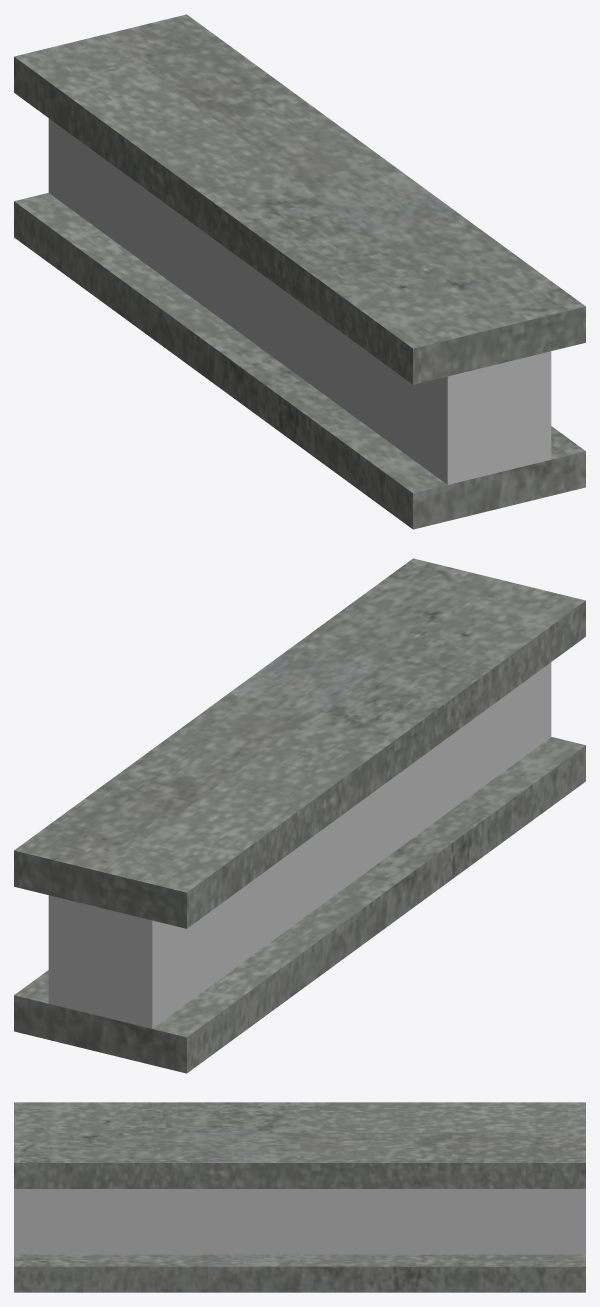
The model's file is detailBeam.fbx.
3 views of the same model, one above another, from view 1: azimuth 30°, elevation 25°; view 2: azimuth 150°, elevation 25°; view 3: azimuth 270°, elevation 25° (orthographic). The views are drawn at different scales.
Parts seen in each view (by area): view 1: detailBeam; view 2: detailBeam; view 3: detailBeam.
Part boxes in pixels (left/top/right/bottom): detailBeam: left=14, top=14, right=585, bottom=529; detailBeam: left=14, top=558, right=585, bottom=1073; detailBeam: left=14, top=1102, right=585, bottom=1292.
Bounding box in the file's own units: 2.5 × 2.5 × 10.
